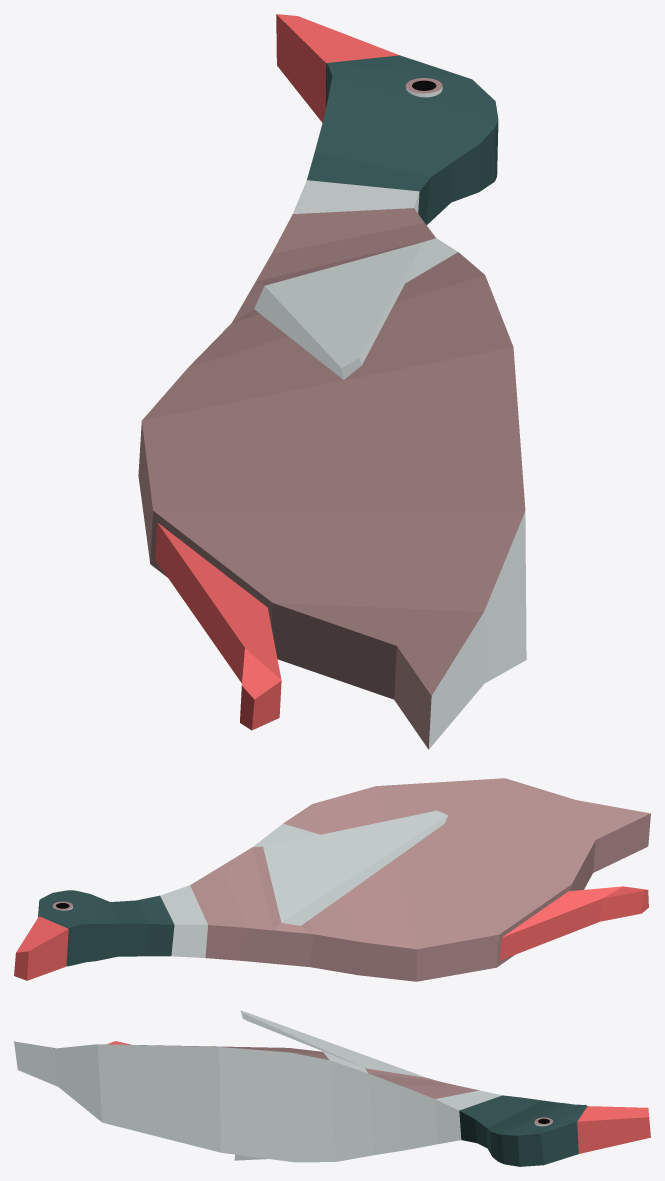
The picture shows the model from 3 angles, top to bottom: view 1: azimuth 30°, elevation 25°; view 2: azimuth 150°, elevation 25°; view 3: azimuth 270°, elevation 25°; orthographic projection. The views are drawn at different scales.
Visible parts, largest first — view 1: Plane; view 2: Plane; view 3: Plane.
Part boxes in pixels (box(x1,y1,x2,y2)): Plane: box(138, 14, 526, 749); Plane: box(14, 778, 650, 981); Plane: box(14, 1010, 650, 1166).
Bounding box in the file's own units: 7.57 × 3.13 × 12.7.
